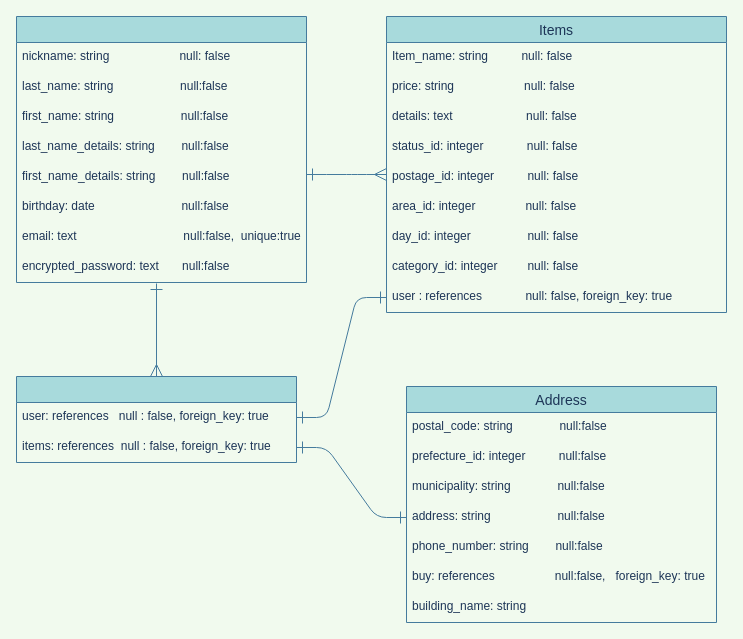
Some shapes in this 743 by 639 pixel diagram are drawn without their labels. Here are the shapes that lost their labels. From the top down, the box of each, then its label:
(16, 16, 306, 282): Users
(16, 376, 296, 462): Buys
